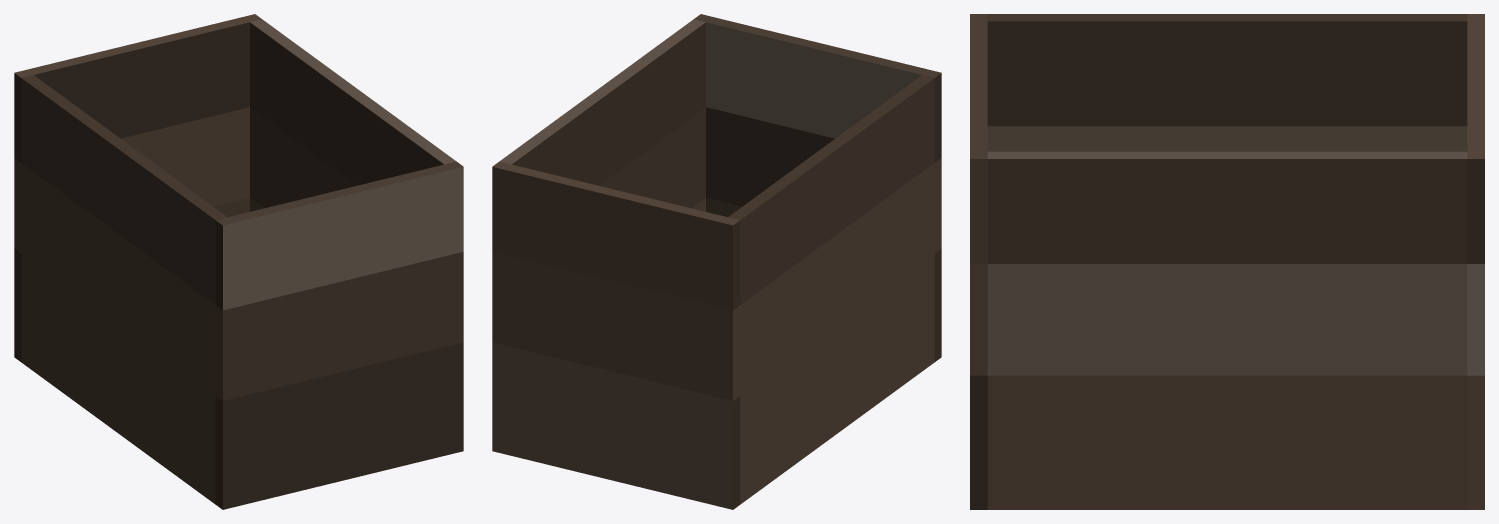
File: Prop_FoodCrateLOD1.fbx
3 renders of one model, left to right at view 1: azimuth 30°, elevation 25°; view 2: azimuth 150°, elevation 25°; view 3: azimuth 270°, elevation 25°, orthographic. The views are drawn at different scales.
Visible parts, largest first — view 1: Prop_FoodCrateLOD1; view 2: Prop_FoodCrateLOD1; view 3: Prop_FoodCrateLOD1.
Part boxes in pixels (bbox=[...]): Prop_FoodCrateLOD1: bbox=[14, 14, 463, 509]; Prop_FoodCrateLOD1: bbox=[492, 14, 941, 509]; Prop_FoodCrateLOD1: bbox=[970, 14, 1484, 509].
Size of the model in its own units: 48.75 by 55 by 73.13.
